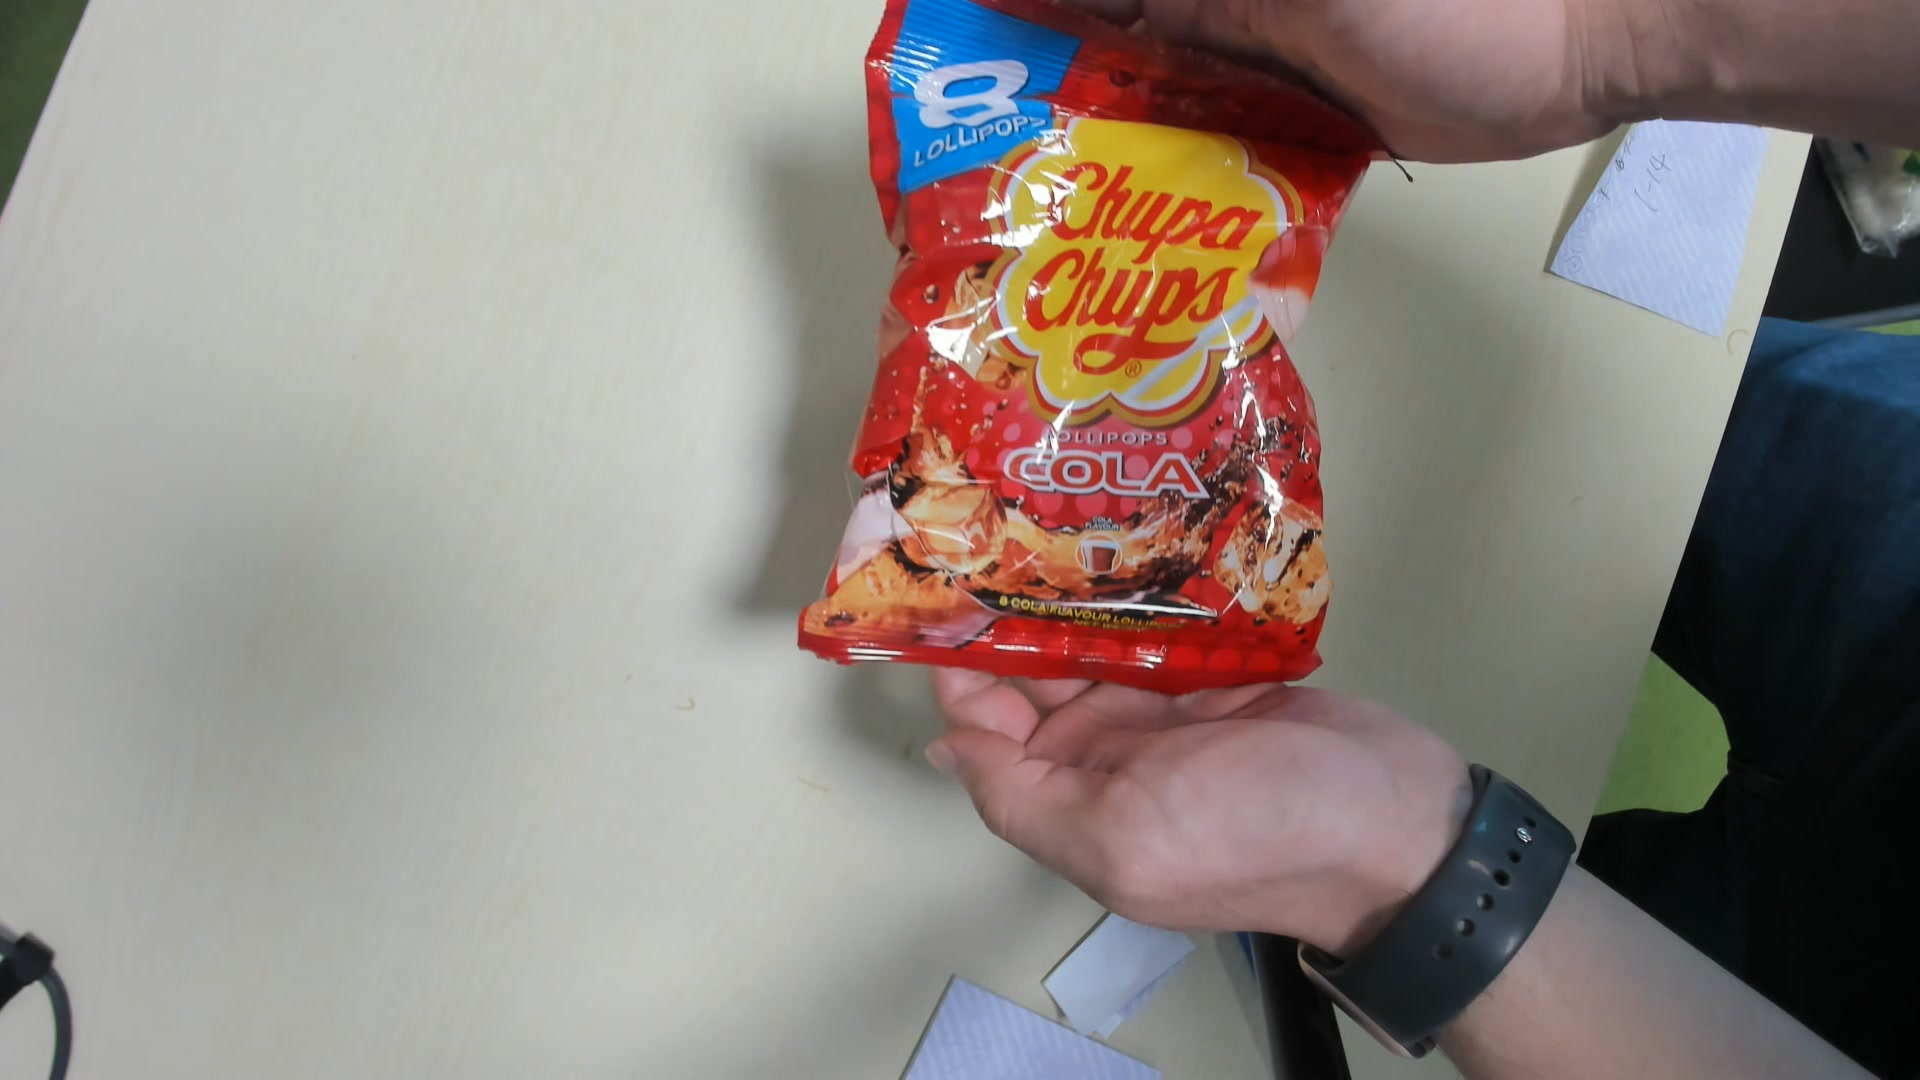SweetsChocolatesOthers_0-99g_NonHalal_Nonhealthy: (802, 1, 1375, 694)
